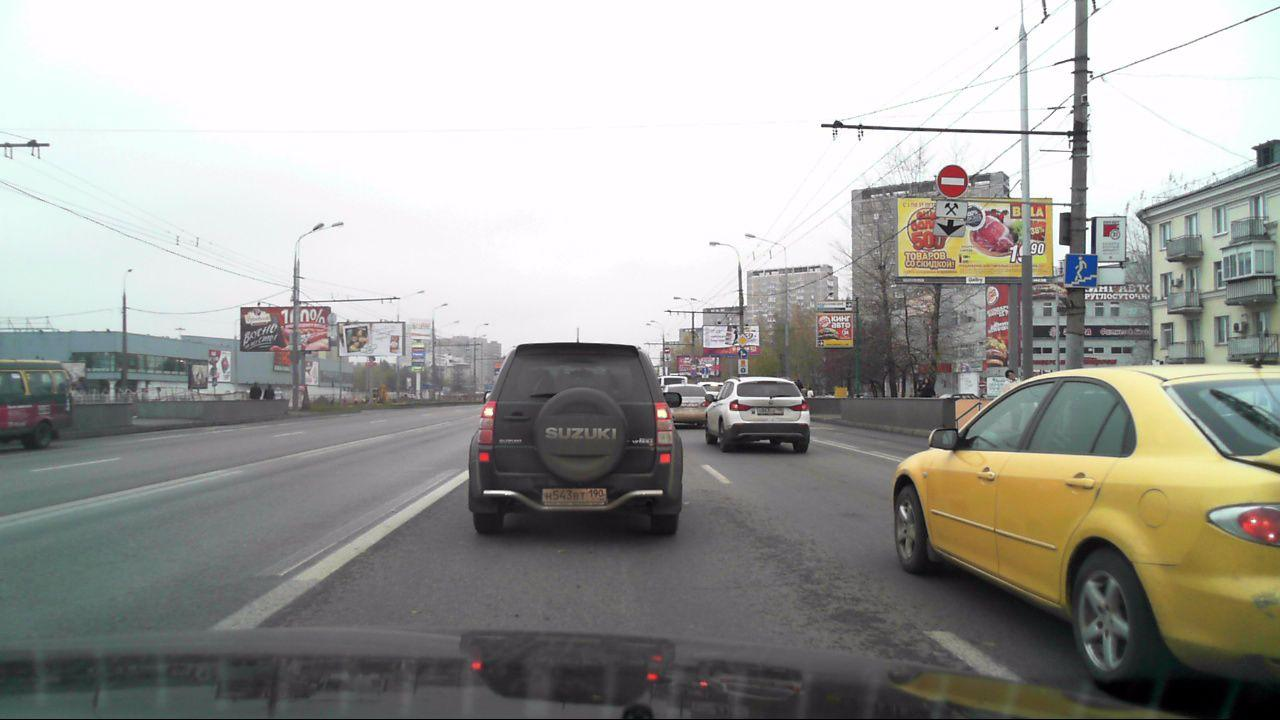2_1: (737, 333, 748, 346)
3_1: (936, 165, 968, 198), (664, 347, 671, 353)
4_1_4: (738, 348, 747, 359)
4_8_1: (738, 359, 748, 374)
6_6: (1065, 254, 1097, 287)
8_14: (934, 217, 965, 237), (663, 357, 671, 362)
8_5_2: (935, 200, 967, 218), (663, 353, 671, 357)
